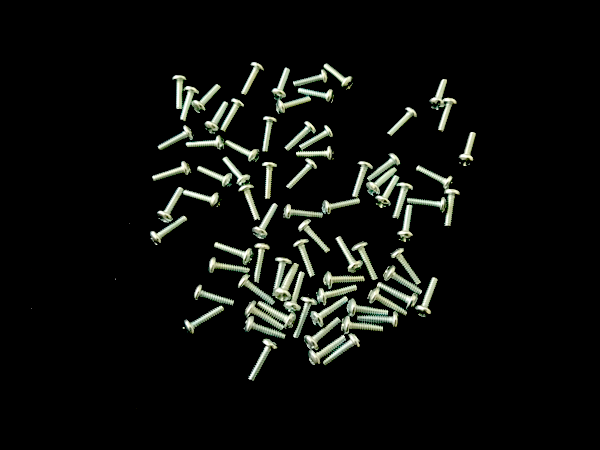shortscrew: (323, 333, 363, 368), (248, 338, 279, 383), (308, 335, 348, 369), (183, 306, 225, 337), (389, 247, 422, 286), (297, 219, 332, 255), (304, 317, 341, 351), (310, 296, 349, 328), (376, 283, 419, 312), (243, 301, 284, 331), (367, 288, 409, 317), (150, 216, 188, 248), (383, 266, 423, 296), (238, 275, 276, 306), (334, 235, 363, 275), (285, 158, 319, 192), (256, 302, 297, 330), (243, 316, 286, 342), (352, 241, 379, 282), (385, 107, 418, 140), (193, 284, 236, 309), (293, 296, 318, 339), (414, 277, 439, 320), (291, 238, 317, 279), (251, 203, 279, 241), (156, 125, 195, 152), (416, 165, 455, 192), (156, 187, 184, 224), (213, 241, 254, 266), (284, 120, 316, 152), (367, 153, 402, 182), (274, 263, 299, 303), (316, 285, 358, 308), (366, 168, 398, 198), (299, 125, 335, 151), (238, 184, 262, 223), (192, 84, 222, 115), (323, 64, 355, 93), (224, 139, 261, 164), (374, 176, 401, 210), (204, 101, 230, 136), (272, 255, 293, 298), (223, 157, 252, 188), (152, 161, 192, 183), (341, 316, 385, 336), (391, 183, 414, 221), (197, 165, 233, 189), (357, 311, 400, 331), (184, 188, 223, 210), (347, 299, 392, 318), (351, 161, 373, 199), (406, 196, 450, 215), (241, 62, 265, 96), (323, 271, 365, 290), (221, 98, 244, 132), (322, 198, 361, 218), (253, 243, 272, 284), (283, 204, 323, 223), (276, 96, 312, 117), (208, 257, 250, 275), (180, 86, 200, 123), (437, 98, 457, 135), (458, 132, 478, 168), (298, 87, 335, 106), (292, 69, 328, 88), (297, 146, 335, 164), (261, 163, 279, 201), (396, 205, 414, 243), (186, 135, 226, 152), (443, 189, 460, 229), (428, 79, 449, 111), (271, 68, 291, 100), (262, 116, 277, 154), (172, 75, 188, 109)
